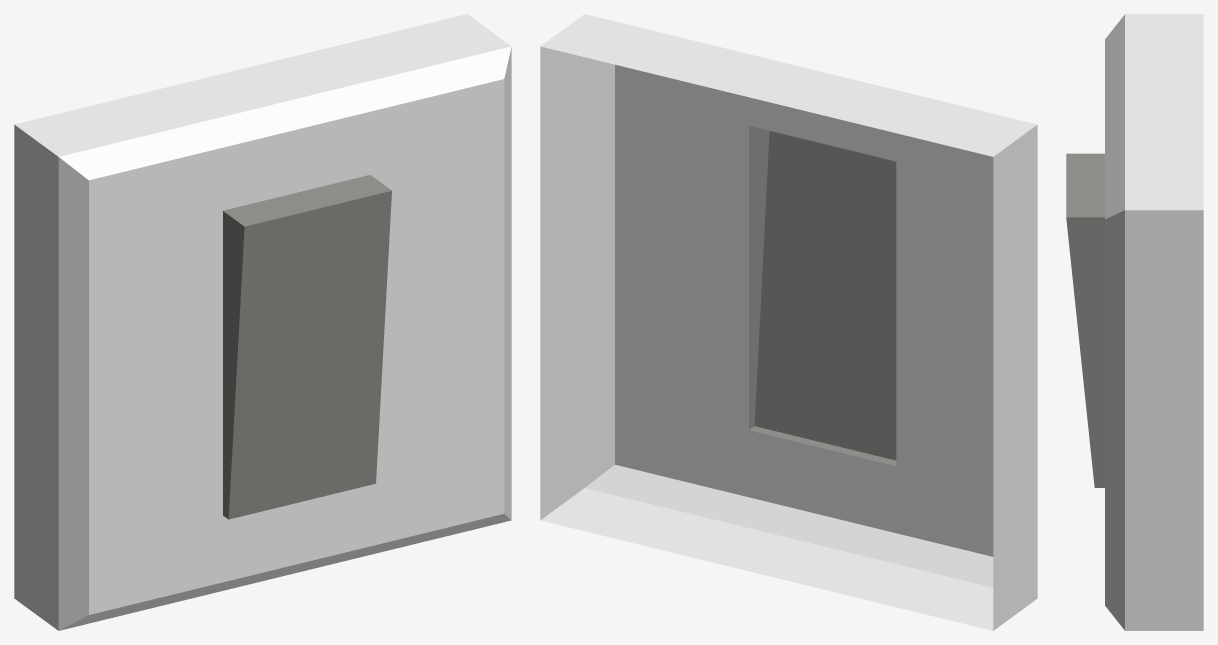
Rendered from Light_Switch.fbx.
3 renders of one model, left to right at view 1: azimuth 30°, elevation 25°; view 2: azimuth 150°, elevation 25°; view 3: azimuth 270°, elevation 25°, orthographic. The views are drawn at different scales.
Parts seen in each view (by area): view 1: Cube.269; view 2: Cube.269; view 3: Cube.269.
Part boxes in pixels (box(x1,y1,x2,y2)): Cube.269: box(14, 14, 511, 630); Cube.269: box(540, 14, 1037, 630); Cube.269: box(1066, 14, 1203, 630).
Bounding box in the file's own units: 13.88 × 13.88 × 4.11.
